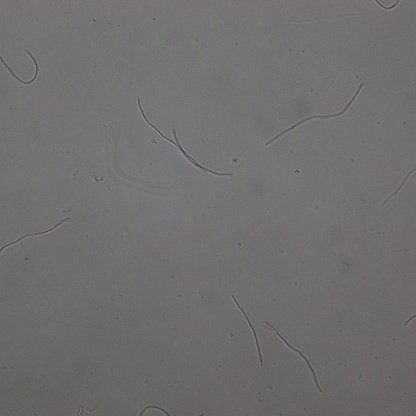Sensitive: (266, 85, 363, 146), (137, 98, 205, 173), (266, 323, 324, 392), (174, 129, 234, 176), (1, 217, 70, 253), (233, 295, 264, 367), (1, 48, 39, 83), (383, 168, 416, 204)
